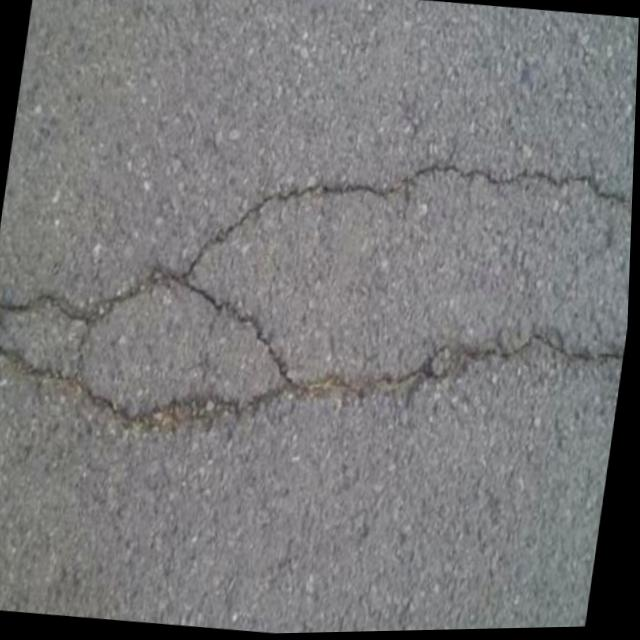Crack: (0, 102, 637, 500)
